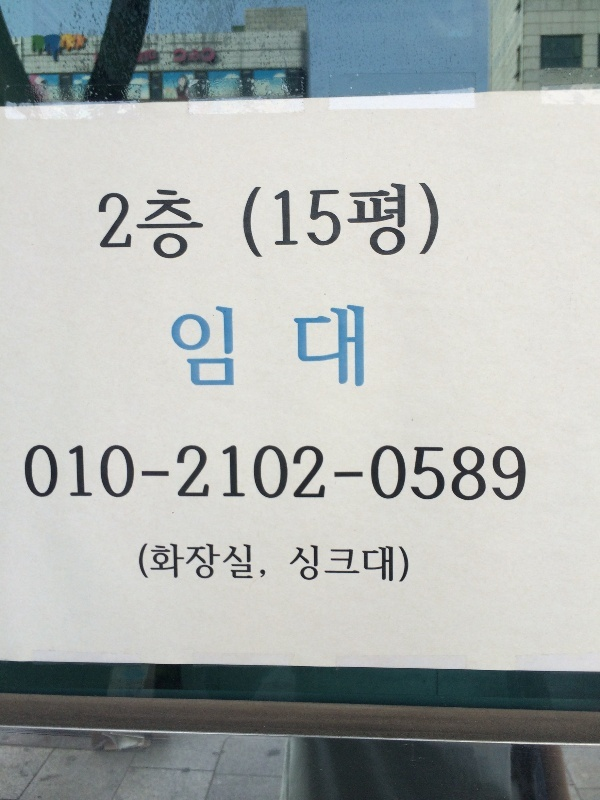text: (177, 303, 192, 394), (193, 303, 208, 394), (209, 303, 224, 394), (305, 302, 320, 389), (321, 302, 336, 389), (337, 302, 352, 389), (257, 180, 272, 263), (273, 180, 288, 263), (289, 180, 304, 263), (305, 180, 320, 263), (321, 180, 336, 263), (337, 180, 352, 263), (353, 180, 368, 263), (369, 180, 384, 263), (385, 180, 400, 263), (401, 180, 416, 263), (417, 180, 432, 263), (353, 302, 367, 389), (113, 188, 128, 264), (129, 188, 144, 264), (145, 188, 160, 264), (161, 188, 176, 264), (177, 188, 192, 264), (225, 303, 237, 394), (292, 302, 304, 389), (244, 180, 256, 263), (99, 188, 112, 264), (385, 442, 400, 505), (401, 442, 416, 505), (417, 442, 432, 505), (433, 442, 448, 505), (449, 442, 464, 505), (465, 442, 480, 505), (481, 442, 496, 505), (497, 442, 512, 505), (513, 442, 528, 505), (193, 188, 205, 264), (33, 442, 48, 501), (49, 442, 64, 501), (65, 442, 80, 501), (81, 442, 96, 501), (97, 442, 112, 501), (113, 442, 128, 501), (177, 444, 192, 503), (193, 444, 208, 503), (209, 444, 224, 503), (225, 444, 240, 503), (241, 444, 256, 503), (257, 444, 272, 503), (273, 444, 288, 503), (289, 444, 304, 503), (305, 444, 320, 503), (373, 442, 384, 505), (305, 542, 320, 587), (321, 542, 336, 587), (337, 542, 352, 587), (353, 542, 368, 587), (369, 542, 384, 587), (385, 542, 400, 587), (169, 303, 176, 394), (145, 542, 160, 583), (161, 542, 176, 583), (177, 542, 192, 583), (193, 542, 208, 583), (209, 542, 224, 583), (225, 542, 240, 583), (241, 542, 256, 583), (433, 180, 439, 263), (24, 442, 32, 501), (294, 542, 304, 587), (129, 442, 136, 501), (257, 542, 267, 583), (401, 542, 410, 587), (321, 444, 326, 503), (145, 467, 160, 486), (177, 47, 192, 64), (193, 47, 208, 64), (337, 469, 352, 483), (145, 48, 157, 64), (161, 467, 170, 486), (140, 542, 144, 583), (353, 469, 364, 483), (209, 47, 216, 64), (139, 48, 144, 64), (141, 467, 144, 486), (175, 47, 176, 64), (335, 469, 336, 483)
